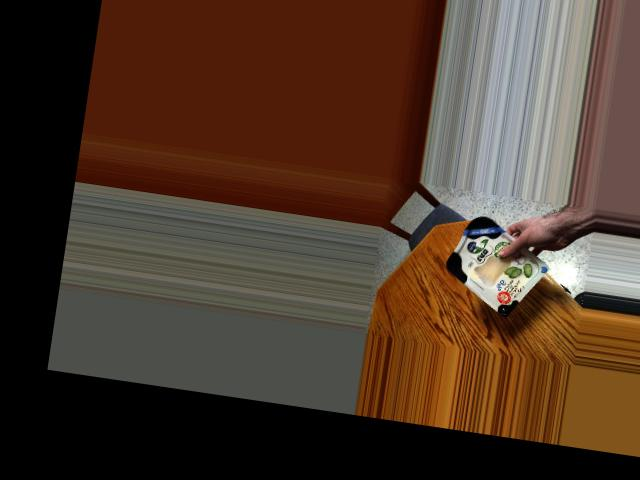cheese: (434, 211, 541, 312)
